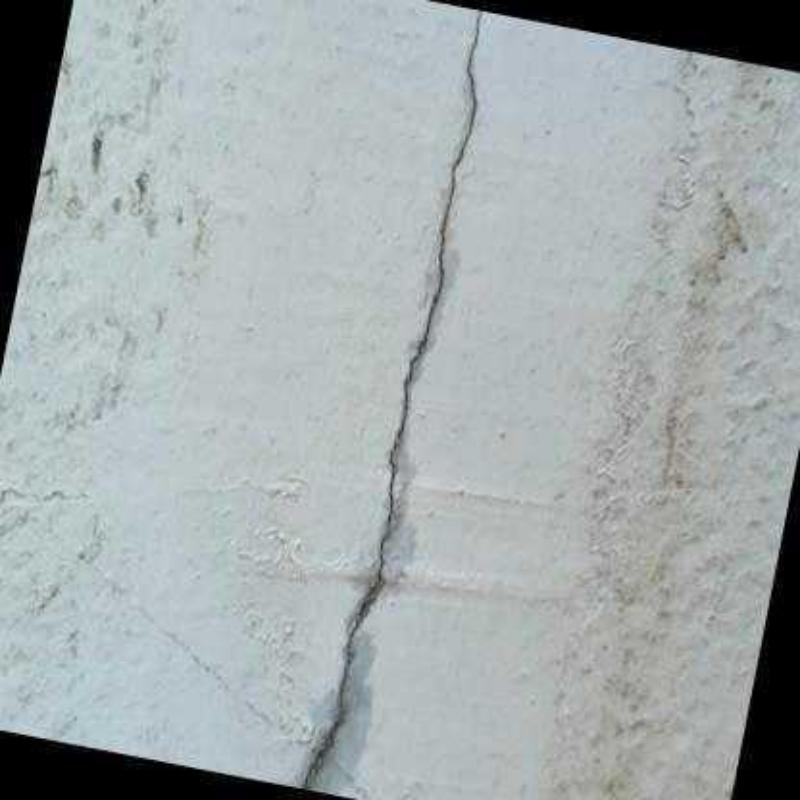pothole: (303, 11, 483, 791)
